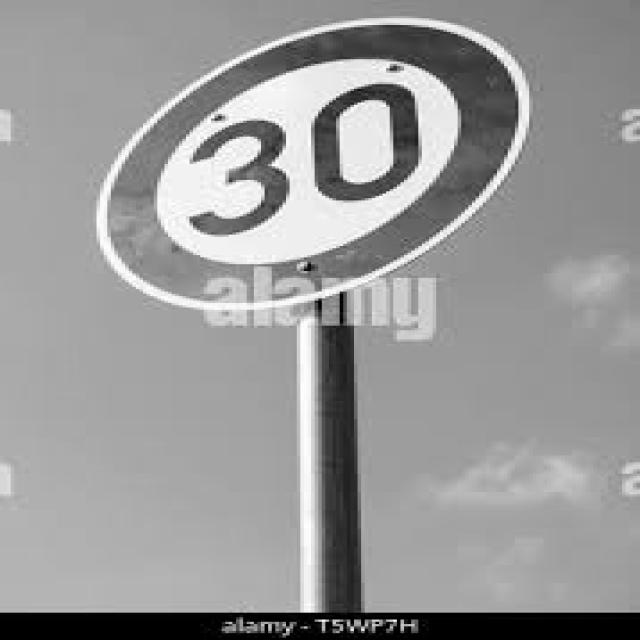speed_30: (97, 16, 532, 315)
